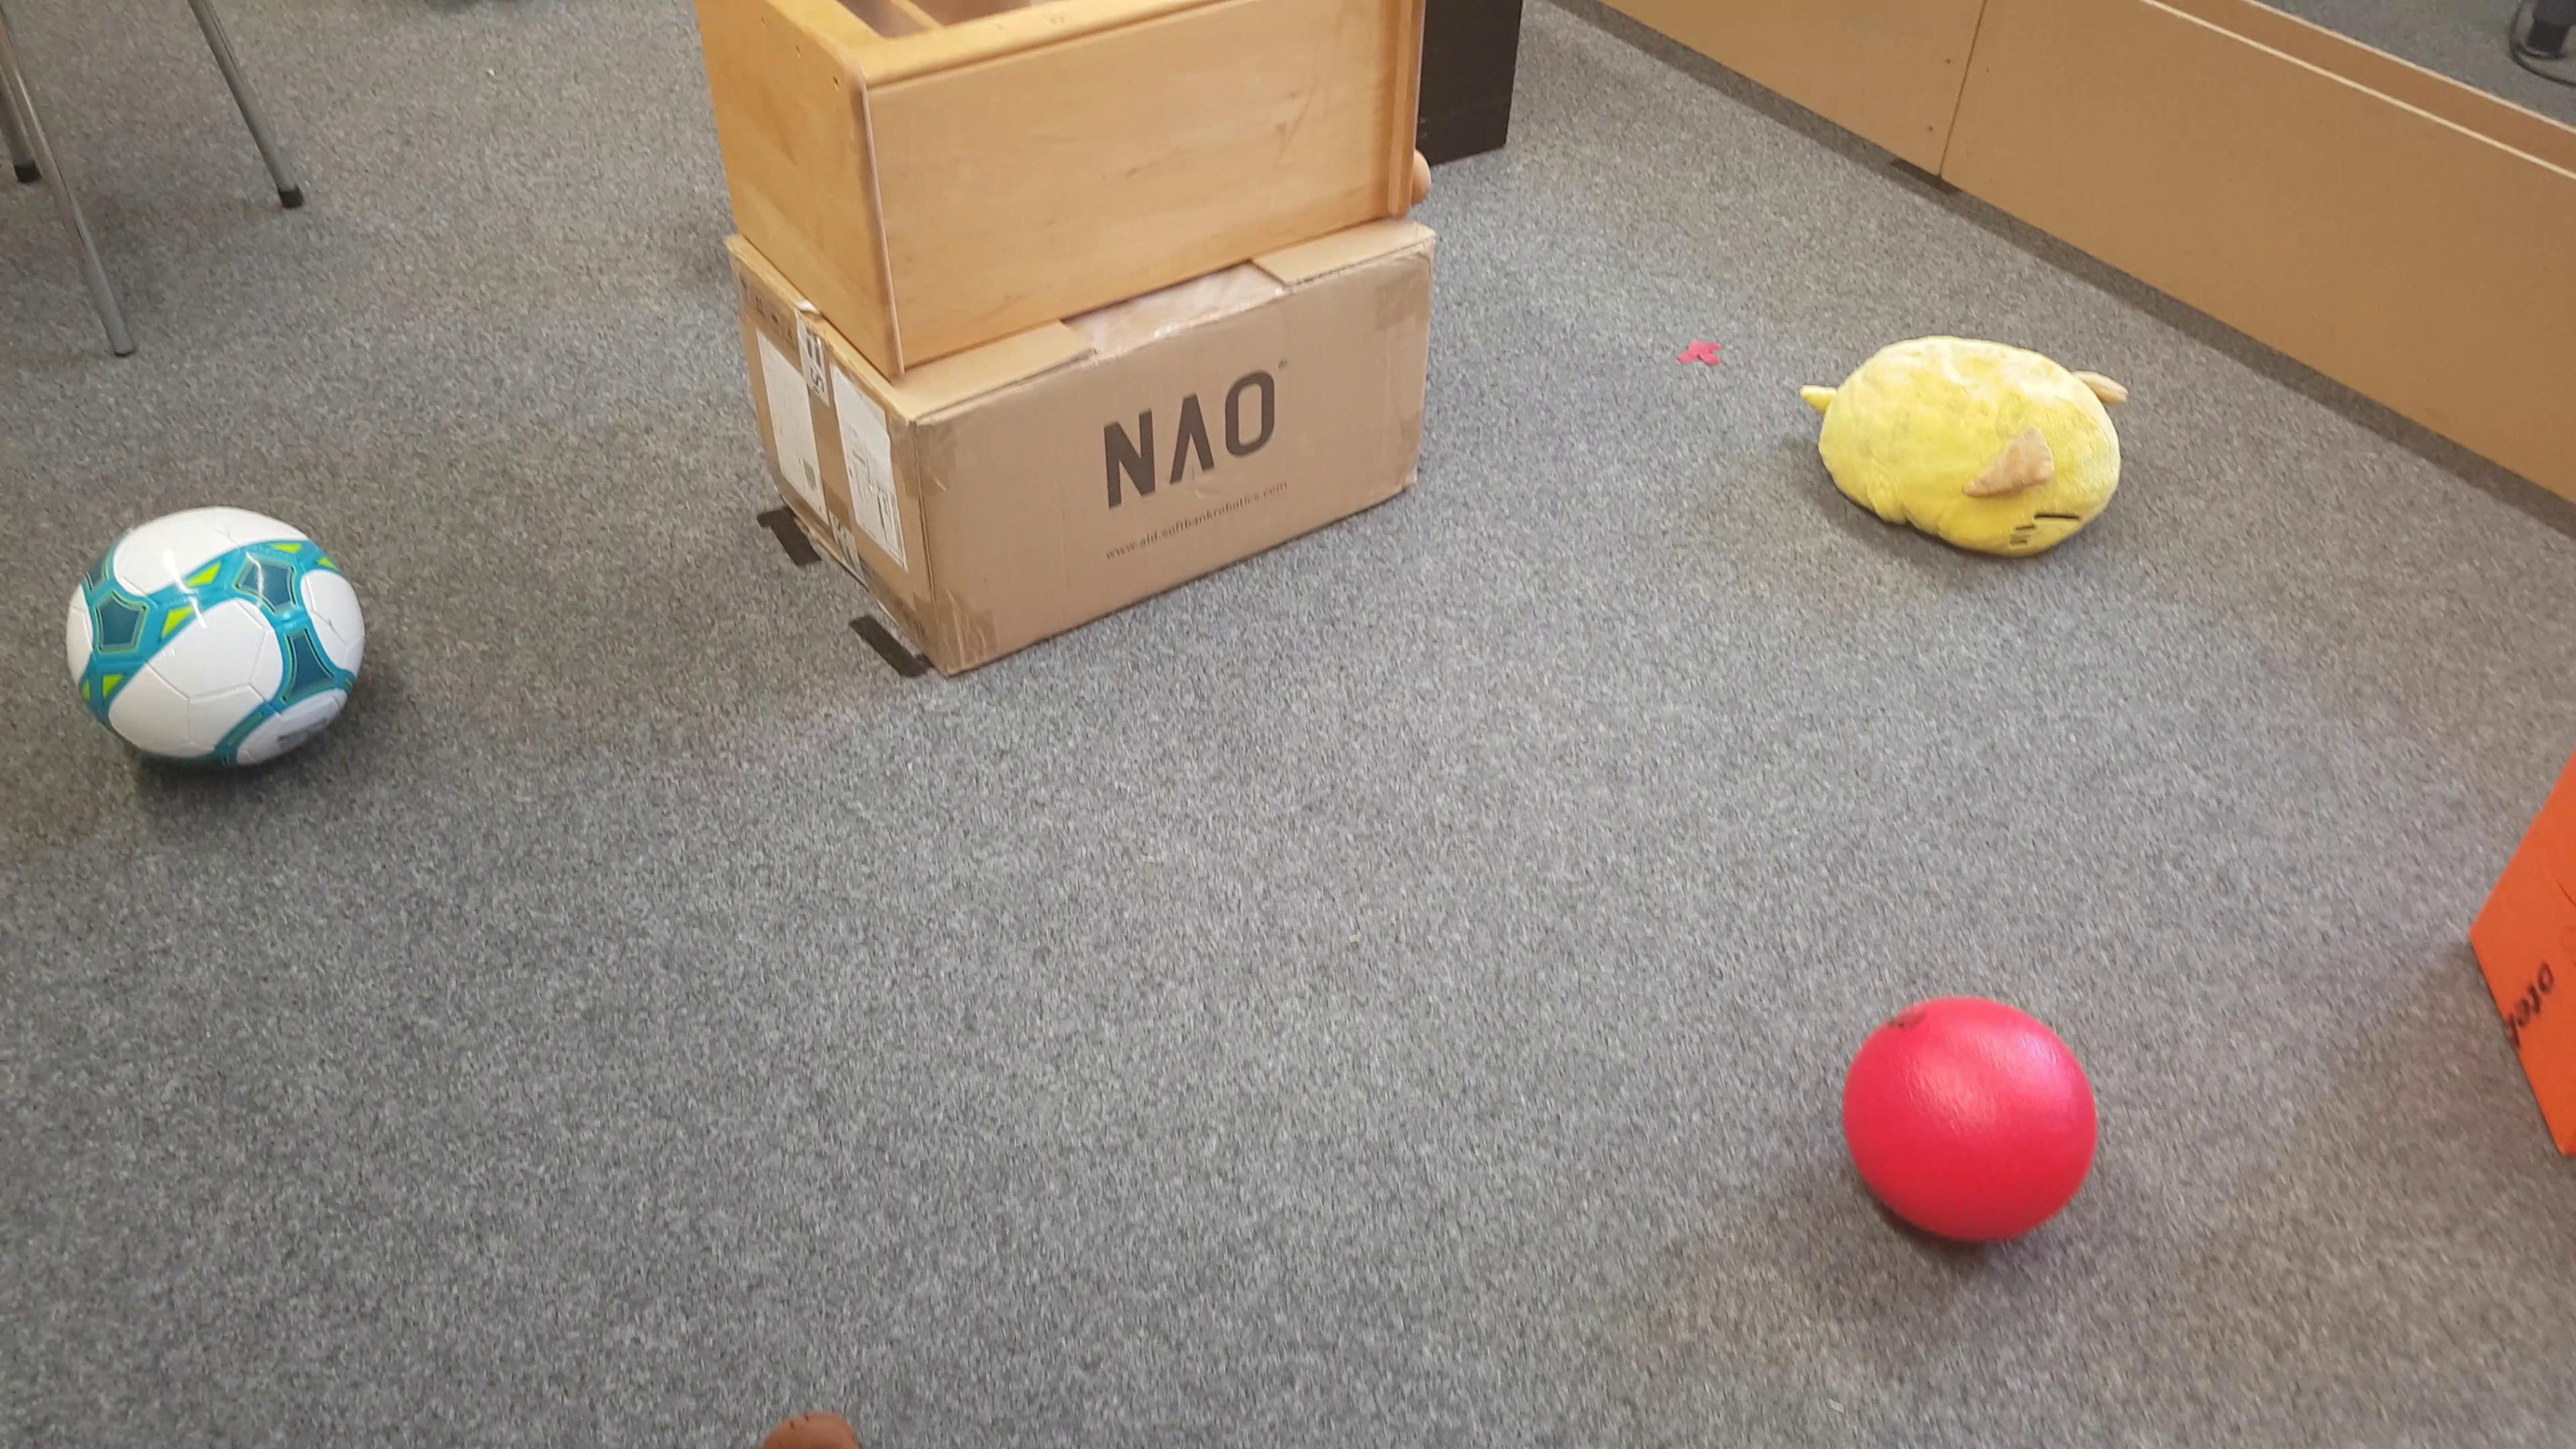grasp: (1799, 331, 2127, 575)
kick: (58, 506, 368, 768), (1835, 994, 2100, 1244)
push: (2468, 736, 2576, 1157), (1431, 5, 1520, 172)
